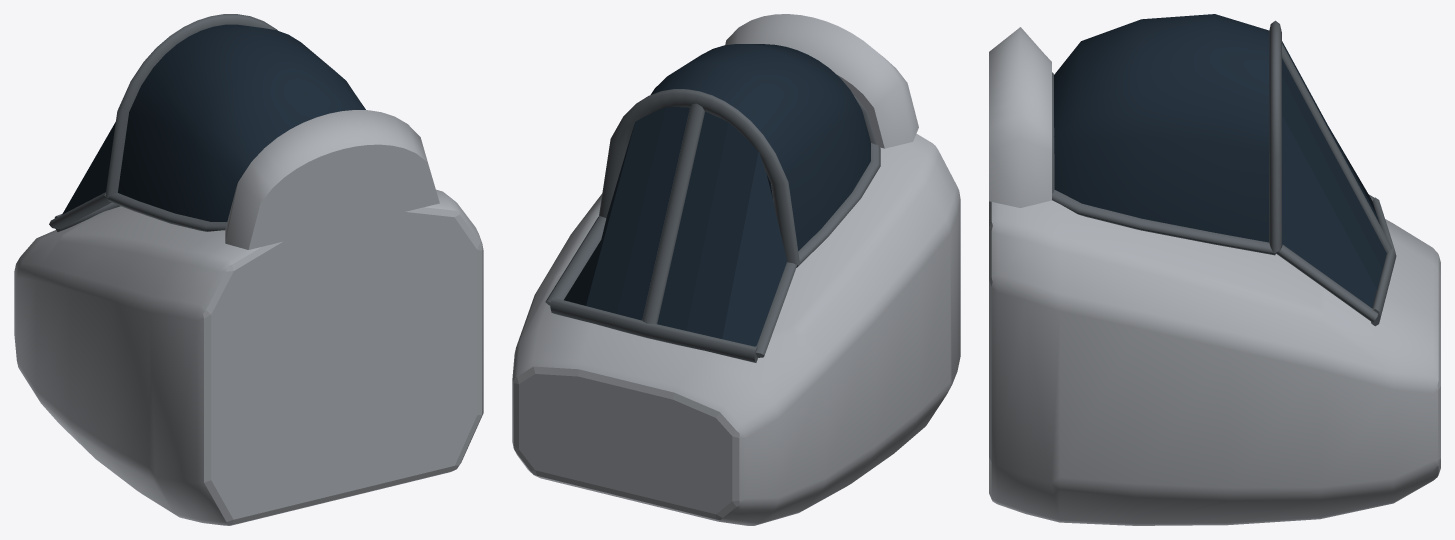
The model's file is cockpit_a10_v2.glb.
3 views of the same model, side by side, from view 1: azimuth 30°, elevation 25°; view 2: azimuth 150°, elevation 25°; view 3: azimuth 270°, elevation 25° (orthographic). The views are drawn at different scales.
Parts seen in each view (by area): view 1: Cockpit_Body, Canopy_Glass, Rear_Fairing, Canopy_Frame, Windscreen_Glass; view 2: Cockpit_Body, Windscreen_Glass, Canopy_Glass, Canopy_Frame, Rear_Fairing; view 3: Cockpit_Body, Canopy_Glass, Windscreen_Glass, Rear_Fairing, Canopy_Frame.
Part boxes in pixels (box(x1,y1,x2,y2)): Cockpit_Body: box(14, 189, 483, 525); Canopy_Glass: box(118, 24, 365, 221); Rear_Fairing: box(225, 110, 439, 249); Canopy_Frame: box(49, 14, 277, 231); Windscreen_Glass: box(62, 122, 115, 214); Cockpit_Body: box(512, 134, 960, 525); Windscreen_Glass: box(564, 107, 787, 346); Canopy_Glass: box(650, 44, 870, 250); Canopy_Frame: box(545, 89, 880, 362); Rear_Fairing: box(725, 14, 918, 148); Cockpit_Body: box(989, 200, 1440, 525); Canopy_Glass: box(1054, 14, 1269, 242); Windscreen_Glass: box(1282, 41, 1386, 307); Rear_Fairing: box(989, 27, 1051, 207); Canopy_Frame: box(1052, 20, 1396, 326).
Size of the model in its own units: 1.54 by 1.82 by 1.72.
